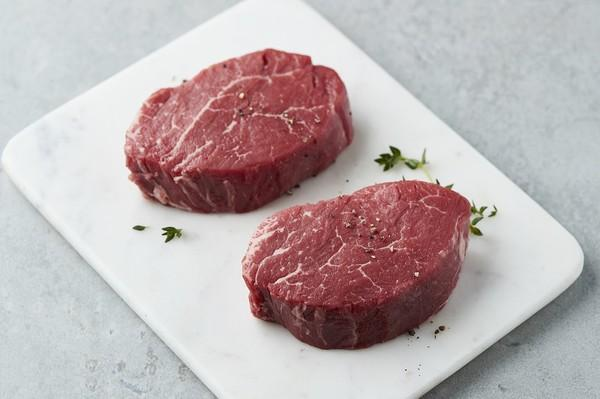beef: (112, 28, 333, 135), (224, 112, 444, 219)
